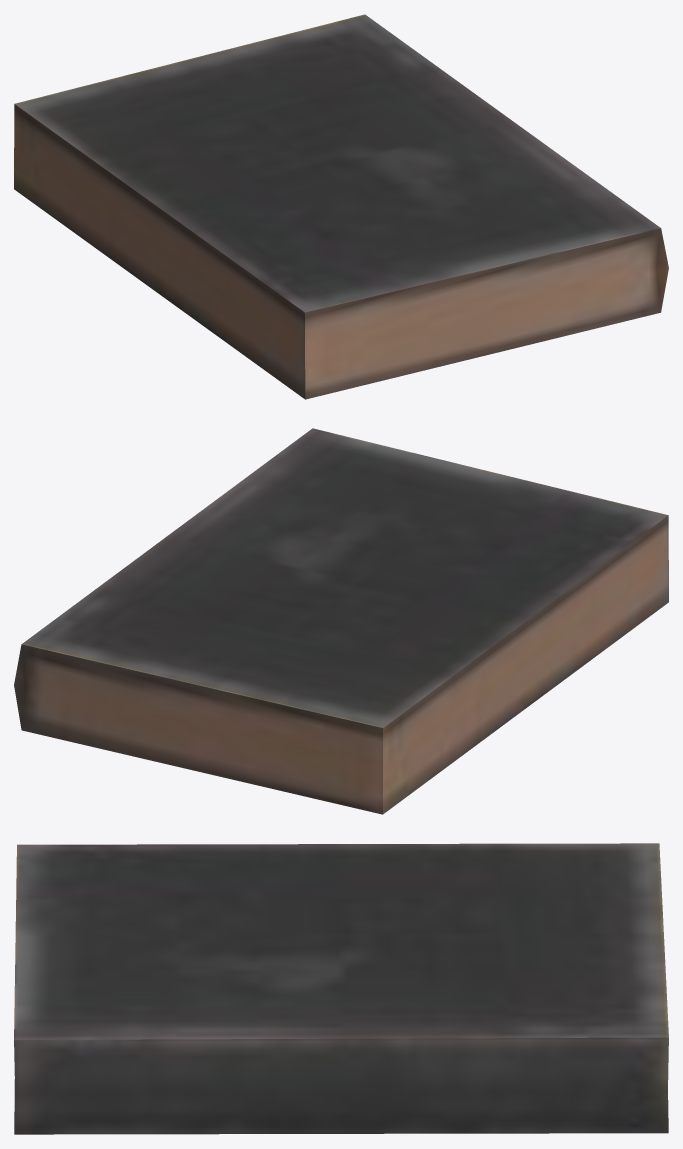
File: book-single.lod1.glb
3 renders of one model, top to bottom at view 1: azimuth 30°, elevation 25°; view 2: azimuth 150°, elevation 25°; view 3: azimuth 270°, elevation 25°, orthographic. The views are drawn at different scales.
Parts seen in each view (by area): view 1: book-single; view 2: book-single; view 3: book-single.
Part boxes in pixels (x1,y1,x2,y2): book-single: (14, 14, 668, 399); book-single: (14, 428, 668, 814); book-single: (14, 843, 668, 1134).
Bounding box in the file's own units: 0.1663 × 0.0376 × 0.2298.
Materials: 1 (1 with a texture image).
